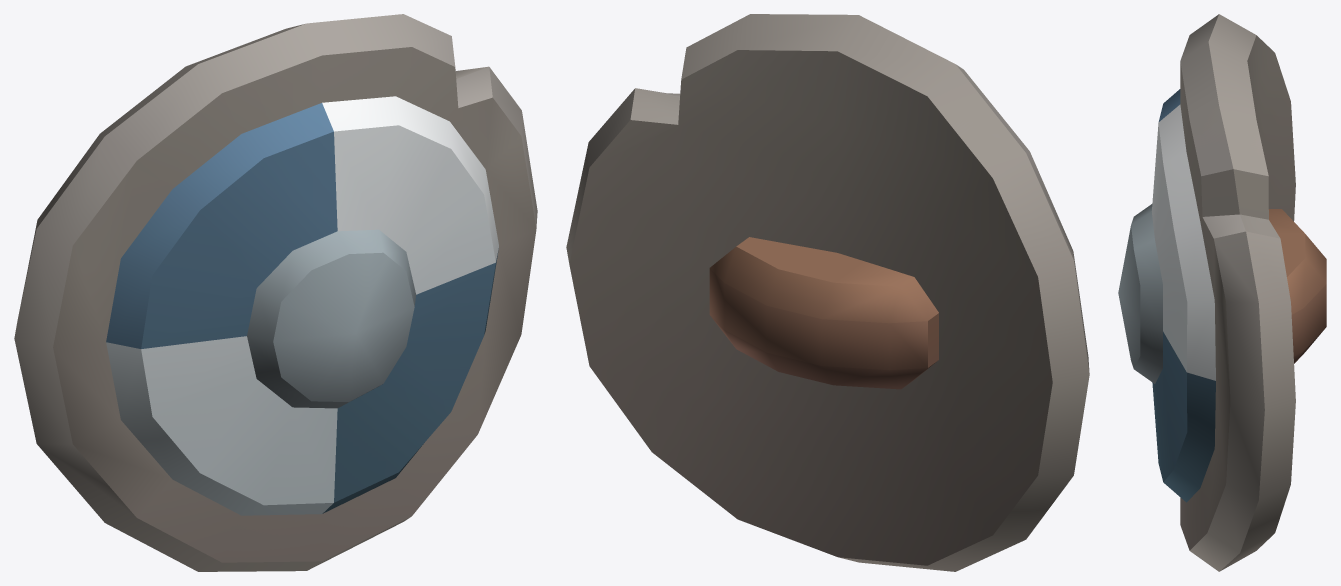
The model's file is shield_round_barbarian.glb.
3 renders of one model, left to right at view 1: azimuth 30°, elevation 25°; view 2: azimuth 150°, elevation 25°; view 3: azimuth 270°, elevation 25°, orthographic. The views are drawn at different scales.
Parts seen in each view (by area): view 1: shield_round_barbarian; view 2: shield_round_barbarian; view 3: shield_round_barbarian.
Boxes of the visible parts, x1=… form: shield_round_barbarian: x1=14, y1=14, x2=537, y2=571; shield_round_barbarian: x1=566, y1=14, x2=1089, y2=571; shield_round_barbarian: x1=1118, y1=14, x2=1326, y2=571.
Bounding box in the file's own units: 0.8826 × 0.8826 × 0.3319.
Materials: 1 (1 with a texture image).
